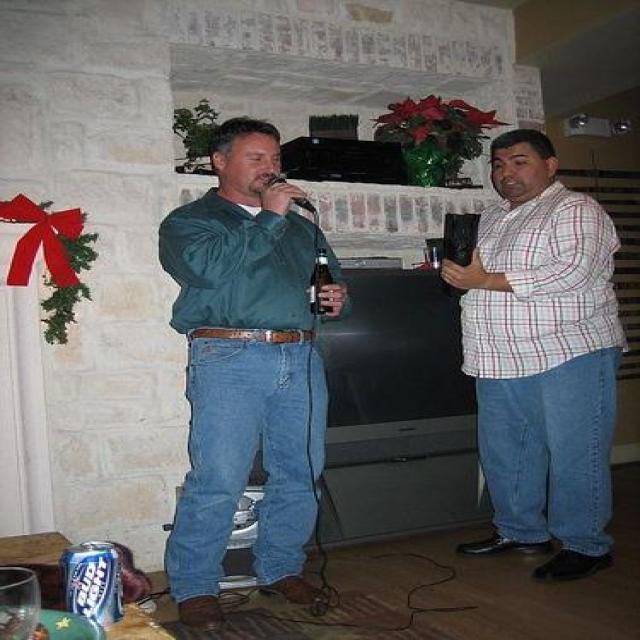No_Gloves: (431, 249, 506, 303), (254, 174, 320, 222), (309, 276, 367, 320)
